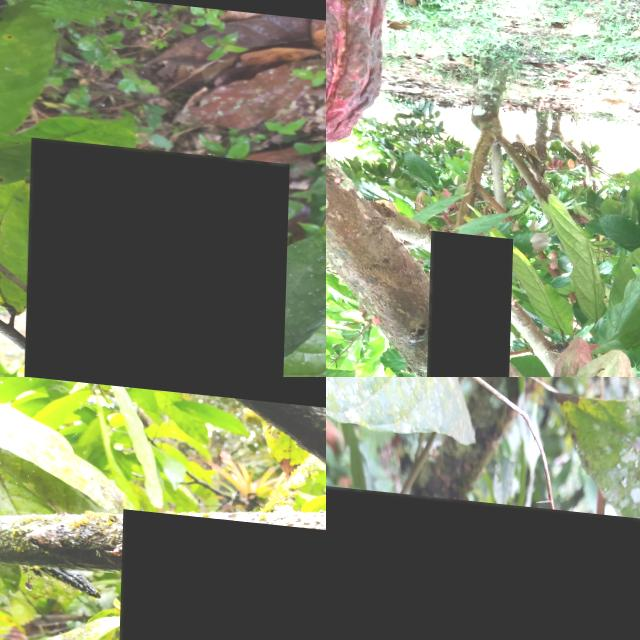Fitoftora: (23, 134, 290, 377), (112, 504, 326, 640), (430, 223, 515, 377), (326, 0, 399, 145)
Monilia: (326, 480, 640, 640)
Sana: (553, 333, 640, 377)
